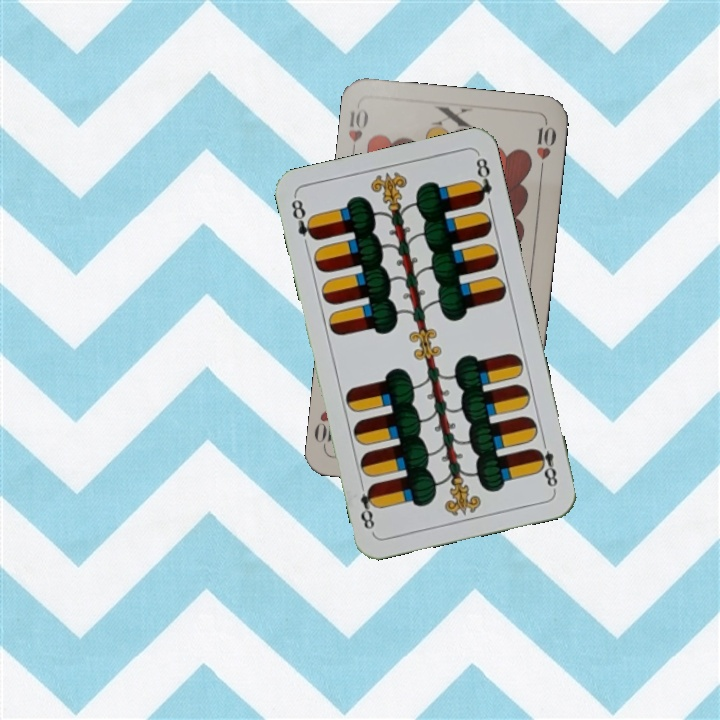E8: (287, 194, 320, 252), (531, 434, 560, 493)
H10: (344, 104, 371, 160)
